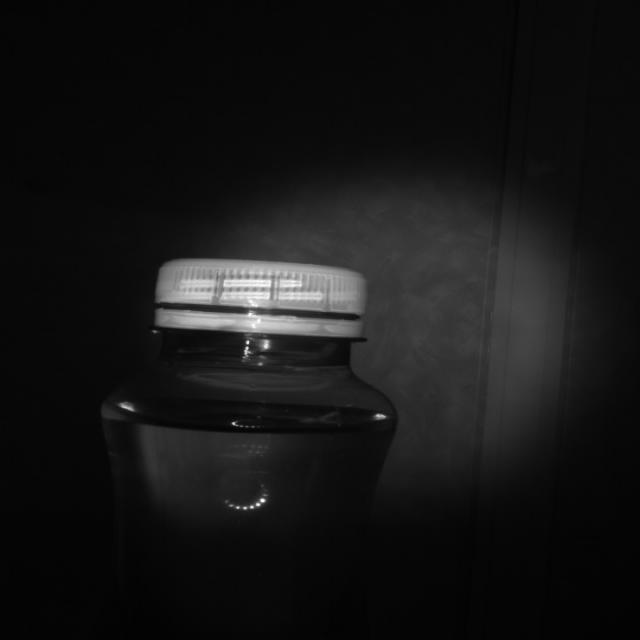Not Good: (154, 256, 366, 340)
